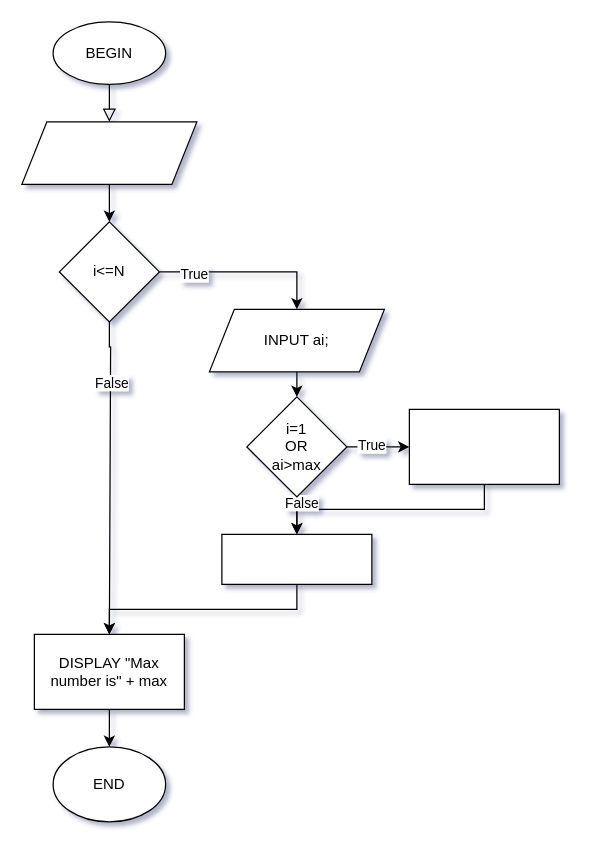
This 589x851 diagram has some shape labels left out. Each missing label, with the centre of its shape:
i=i+1: [296,558]
INPUT N; i=1;: [109,152]
max=ai: [483,446]
